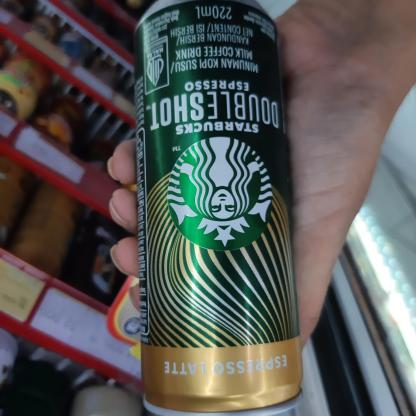alumunium_can: (121, 0, 310, 416)
